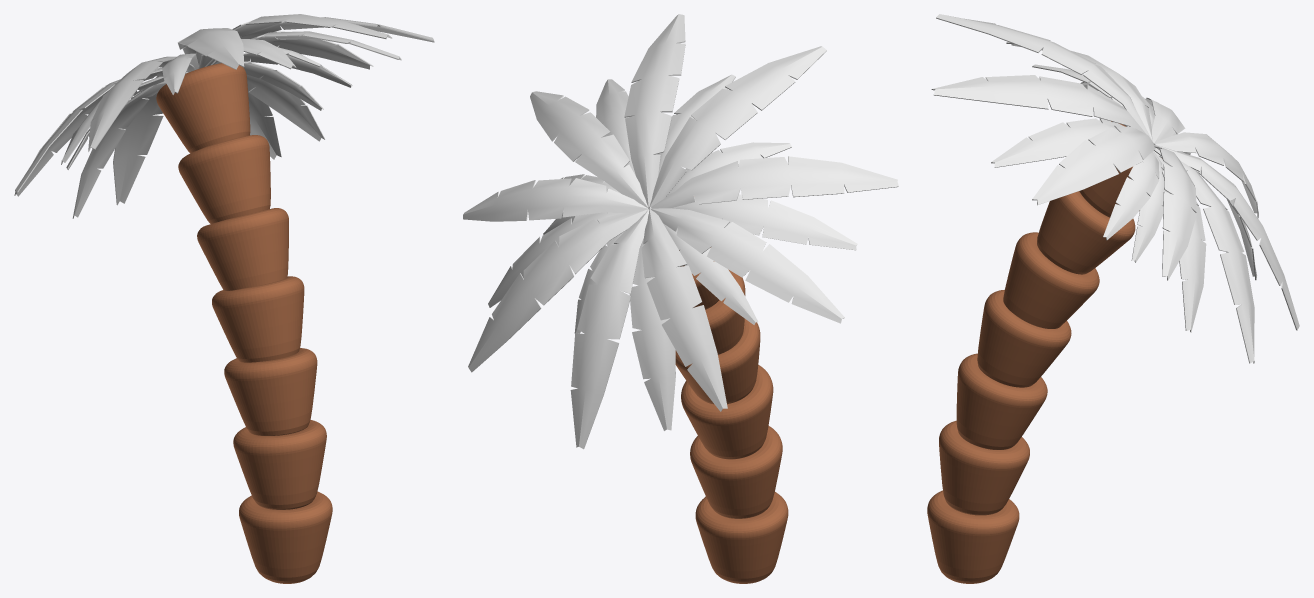
File: Palmera2_30.fbx
3 views of the same model, side by side, from view 1: azimuth 30°, elevation 25°; view 2: azimuth 150°, elevation 25°; view 3: azimuth 270°, elevation 25° (orthographic).
Visible parts, largest first — view 1: foliage.4_Plane.007; view 2: foliage.4_Plane.007; view 3: foliage.4_Plane.007.
Part boxes in pixels (x1,y1,x2,y2): foliage.4_Plane.007: (14,14,434,583); foliage.4_Plane.007: (463,14,898,583); foliage.4_Plane.007: (927,14,1299,583).
Size of the model in its own units: 4863 by 6770 by 4298.
